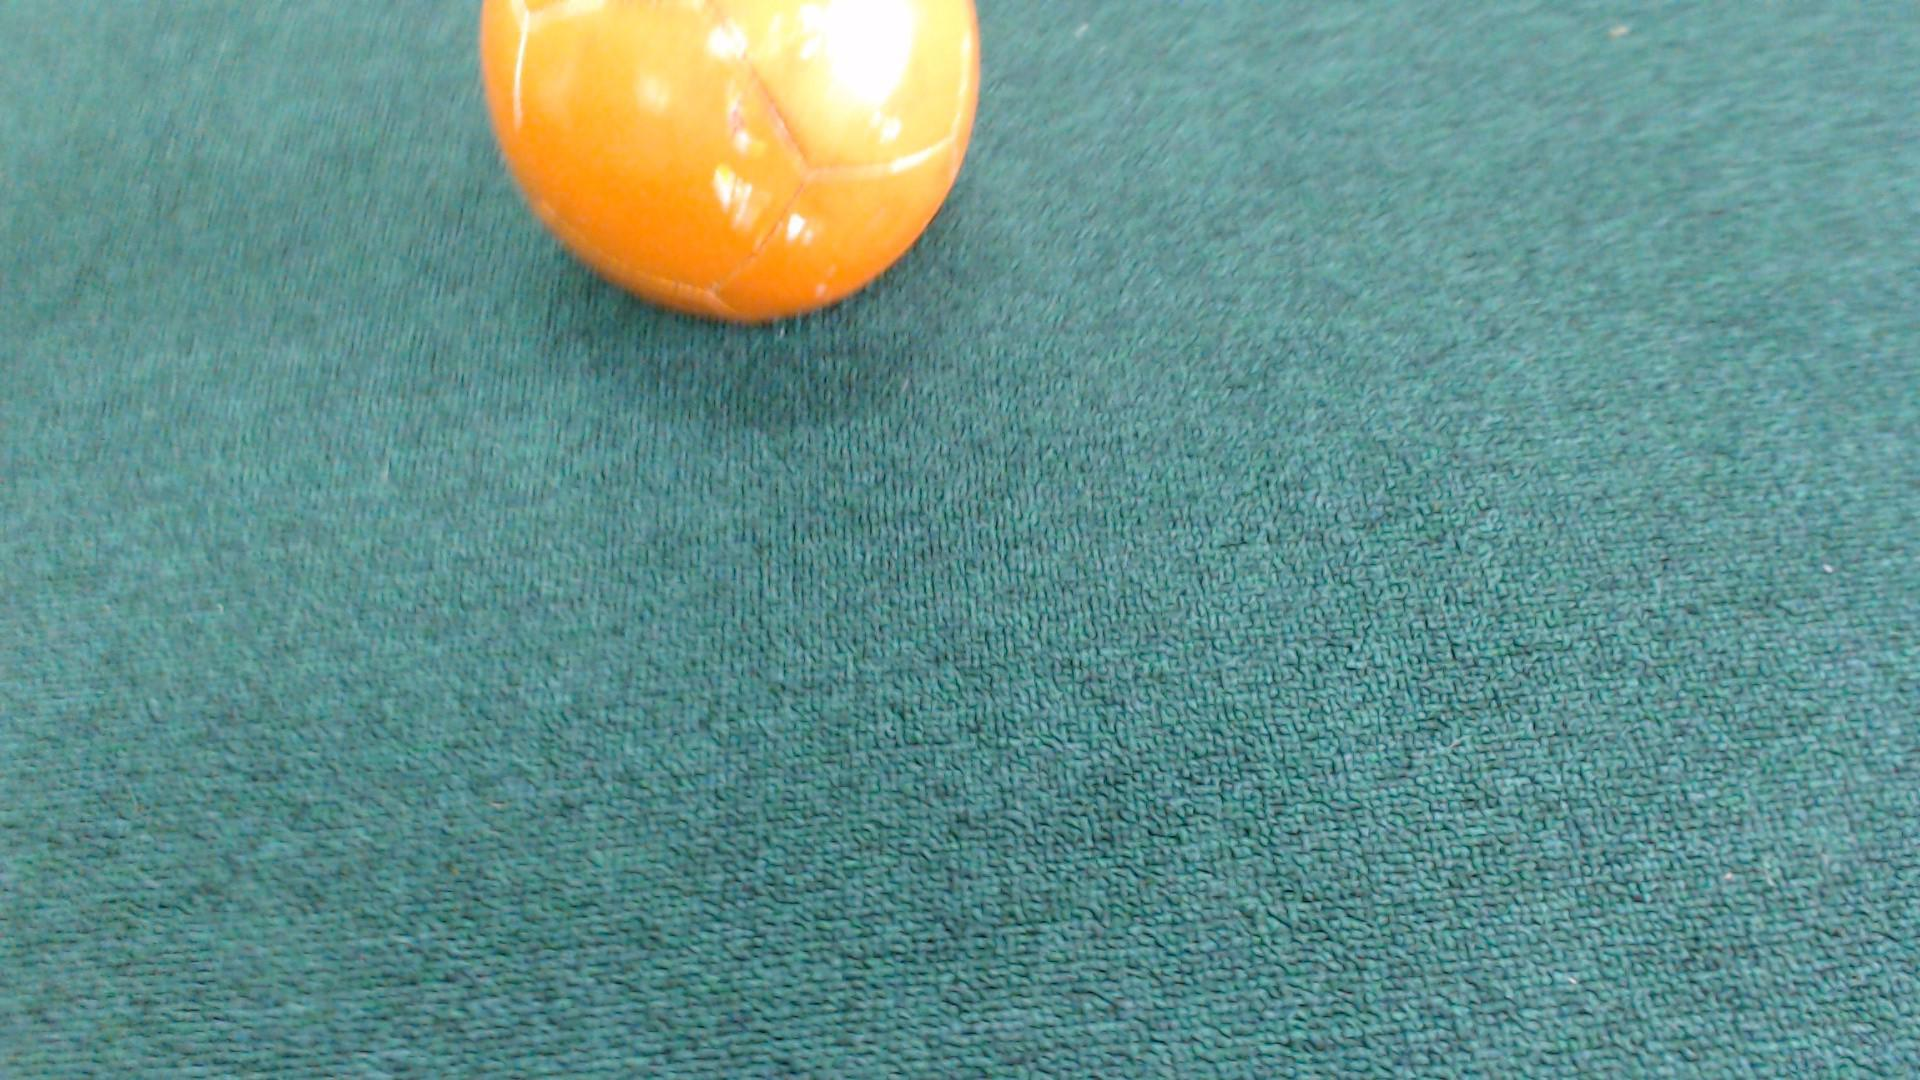bola: (458, 0, 994, 353)
